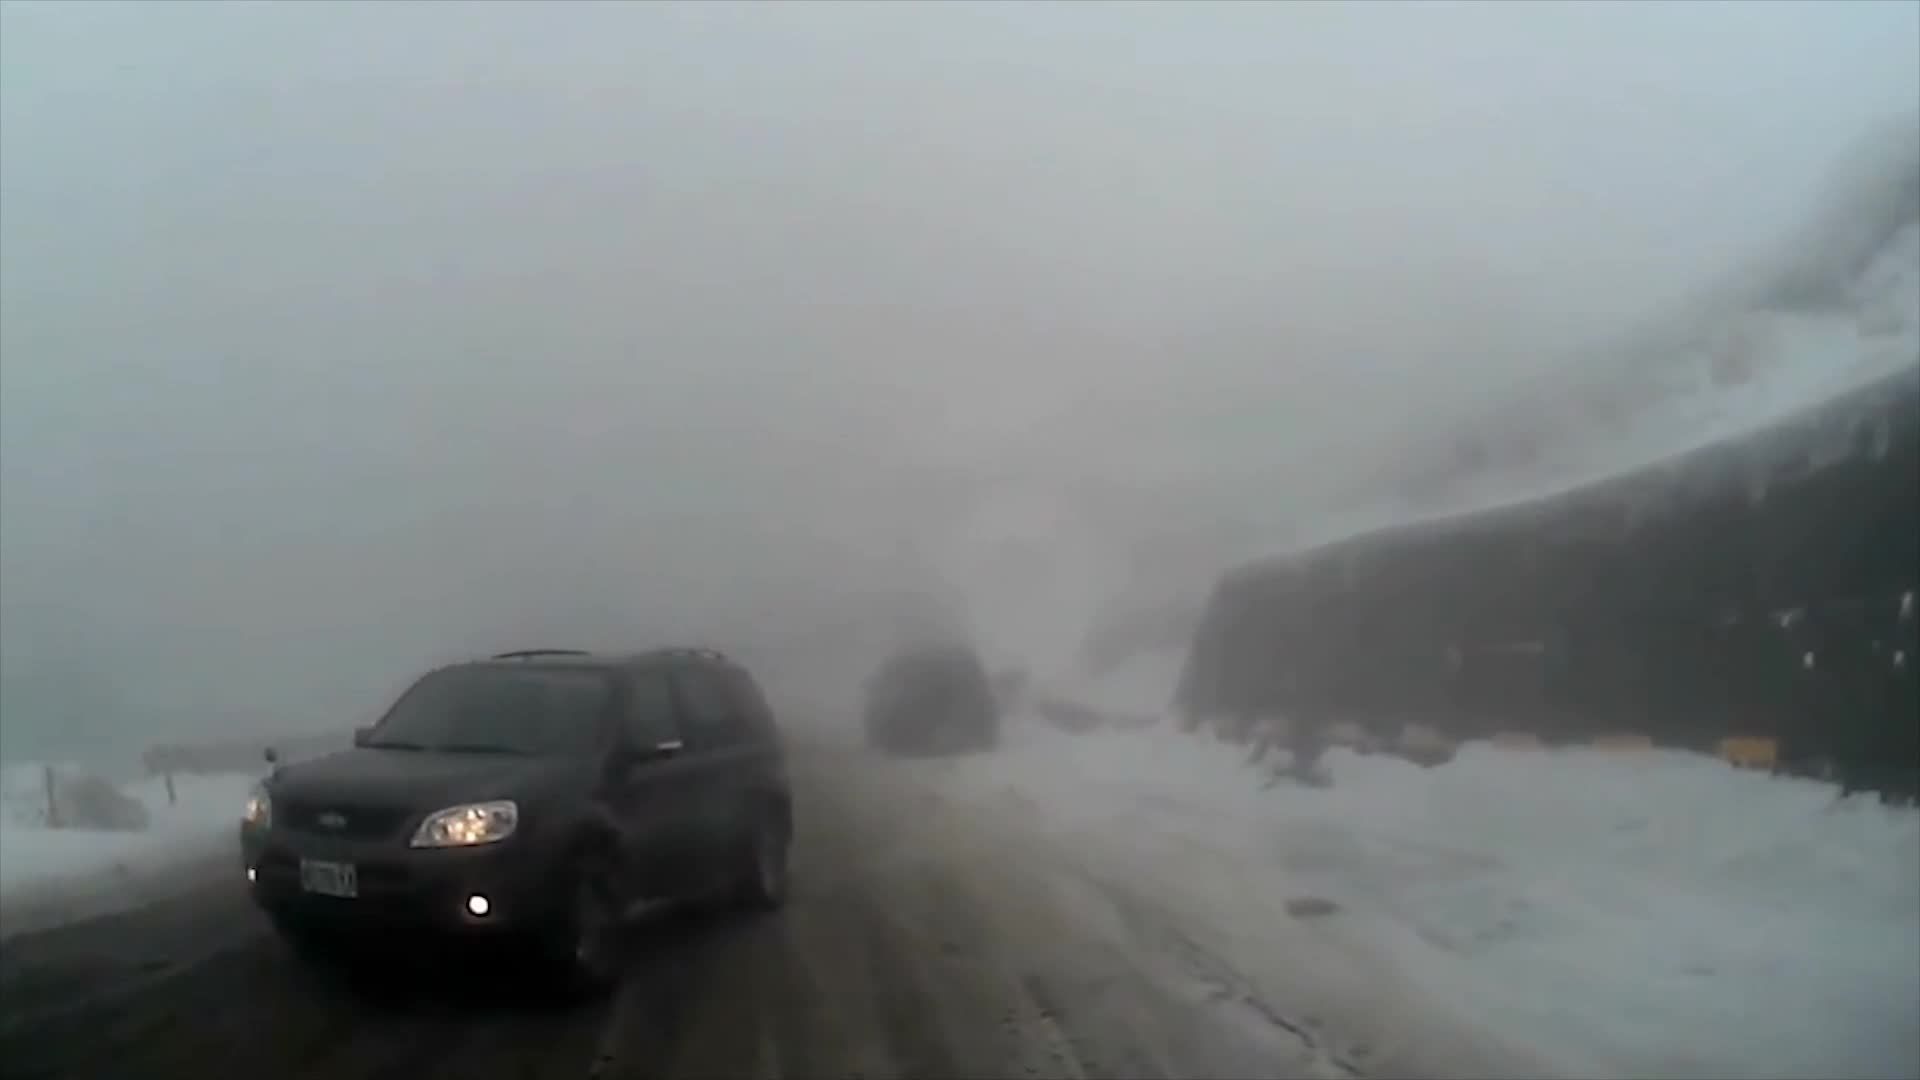vehicle: (236, 641, 796, 990), (858, 644, 996, 760)
